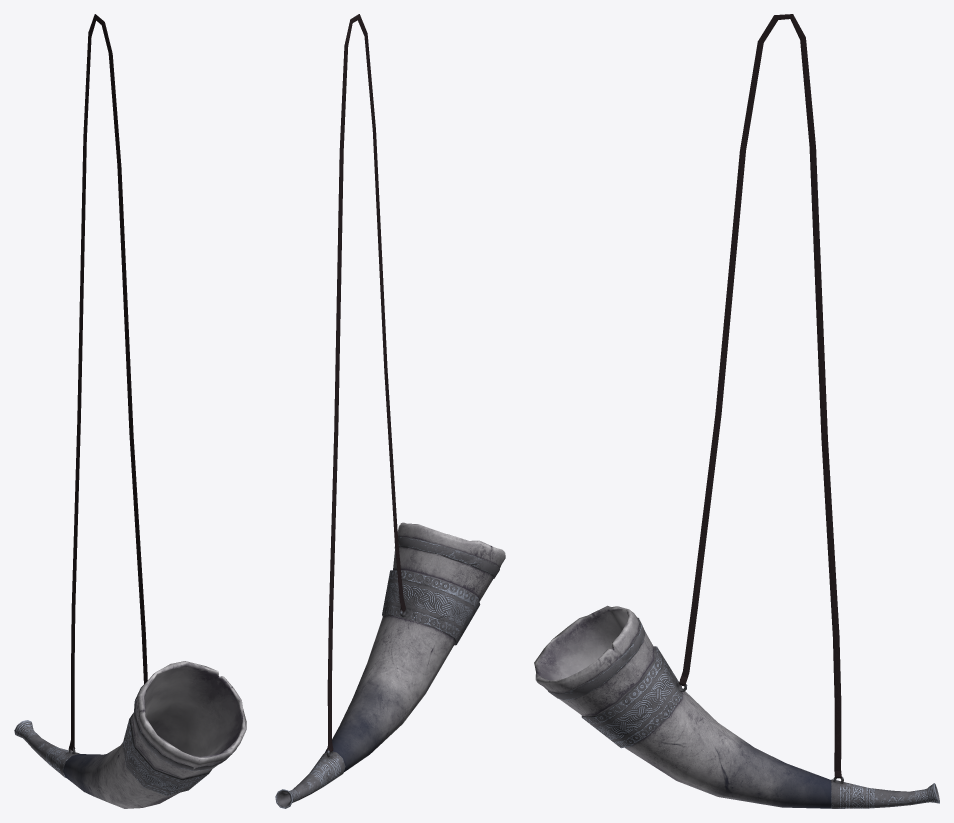
The model's file is Prop_BlowingHorn_MDL_v1.fbx.
The picture shows the model from 3 angles, left to right: view 1: azimuth 30°, elevation 25°; view 2: azimuth 150°, elevation 25°; view 3: azimuth 270°, elevation 25°; orthographic projection. The views are drawn at different scales.
Parts seen in each view (by area): view 1: Prop_BlowingHorn_MDL_v1; view 2: Prop_BlowingHorn_MDL_v1; view 3: Prop_BlowingHorn_MDL_v1.
Part boxes in pixels (left/top/right/bottom): Prop_BlowingHorn_MDL_v1: left=14, top=14, right=246, bottom=808; Prop_BlowingHorn_MDL_v1: left=275, top=14, right=505, bottom=808; Prop_BlowingHorn_MDL_v1: left=534, top=14, right=939, bottom=808.
Bounding box in the file's own units: 7.96 × 58.22 × 26.99.
1 material, 1 textured.
